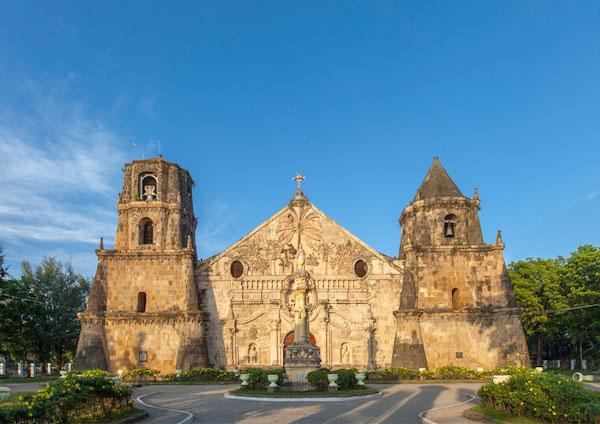miagao_church_miagao_iloilo: (73, 133, 534, 380)
